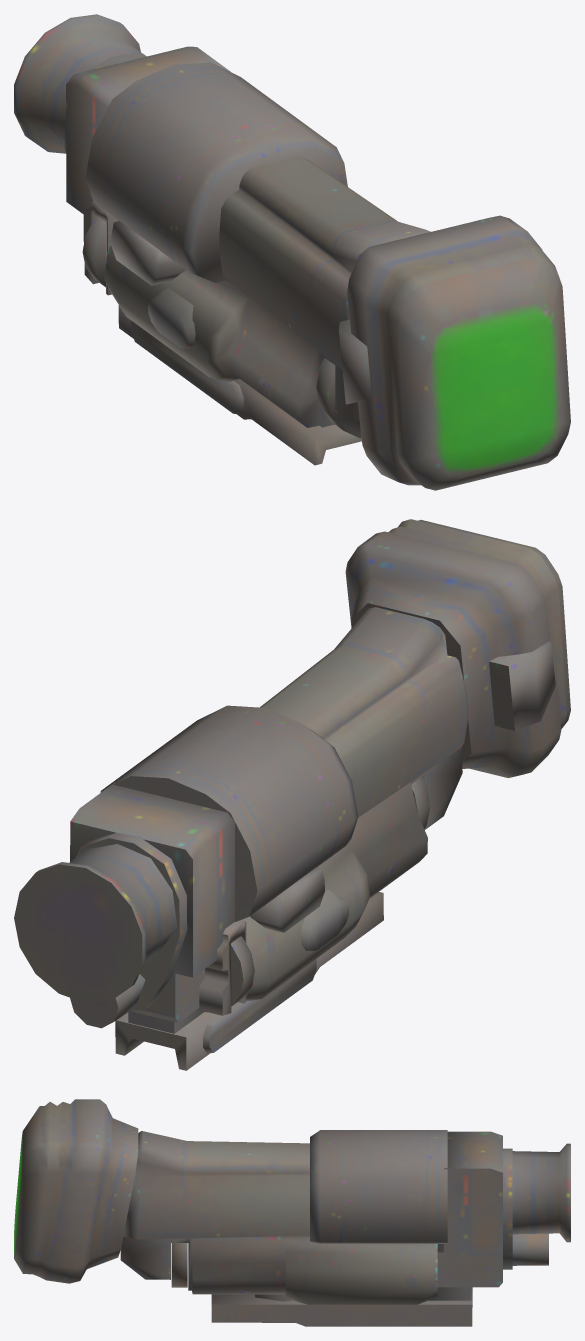
Rendered from sight3.obj.
The picture shows the model from 3 angles, top to bottom: view 1: azimuth 30°, elevation 25°; view 2: azimuth 150°, elevation 25°; view 3: azimuth 270°, elevation 25°; orthographic projection. The views are drawn at different scales.
Parts seen in each view (by area): view 1: sight3; view 2: sight3; view 3: sight3.
Boxes of the visible parts, left/top/right/bottom form: sight3: left=14, top=14, right=570, bottom=490; sight3: left=14, top=519, right=570, bottom=1070; sight3: left=14, top=1099, right=570, bottom=1326.
Bounding box in the file's own units: 7.42 × 11.04 × 28.6.
